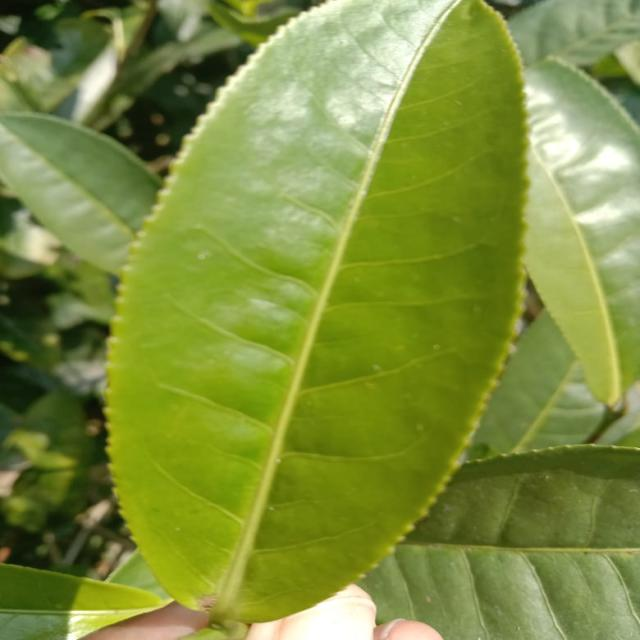Category B 2-4 days: (87, 0, 539, 634)
